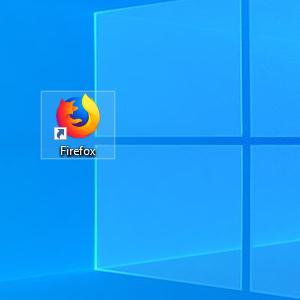firefox: (54, 92, 101, 141)
